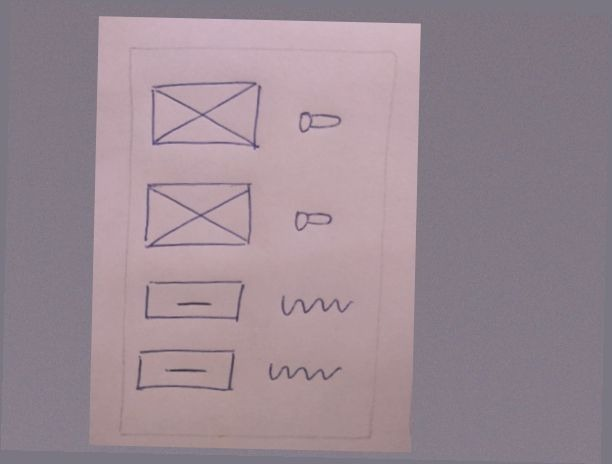button: (138, 273, 249, 328), (131, 342, 242, 397)
image: (145, 75, 267, 157), (137, 174, 259, 255)
switch: (287, 197, 340, 237), (294, 103, 346, 143)
text: (273, 285, 359, 330), (262, 354, 348, 392)
